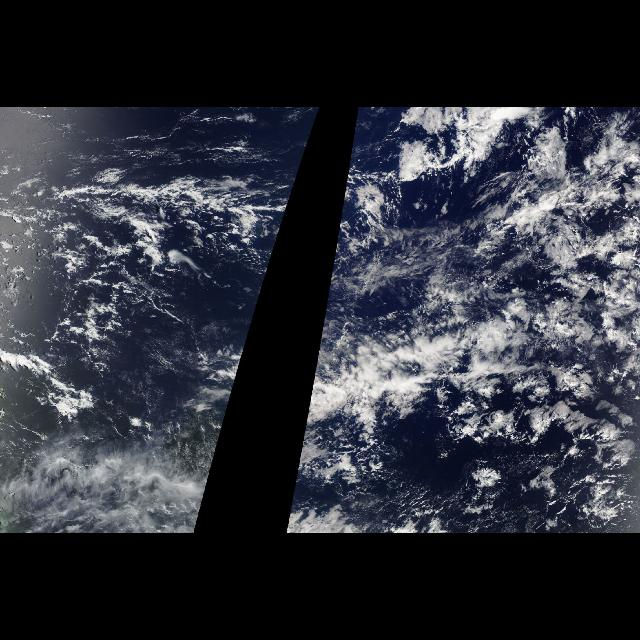Gravel: (8, 170, 204, 352)
Sugar: (299, 453, 639, 533)
